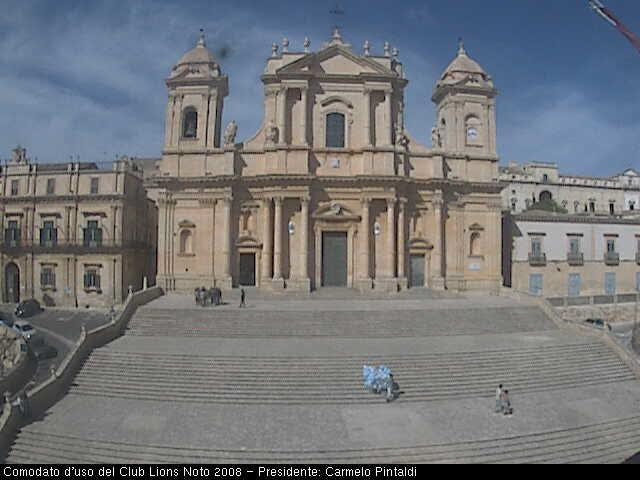person: (17, 389, 31, 422), (492, 382, 505, 414), (384, 372, 397, 404), (501, 388, 514, 417), (238, 287, 248, 311), (199, 287, 207, 309), (217, 287, 225, 306), (209, 287, 216, 307), (194, 286, 198, 302)
